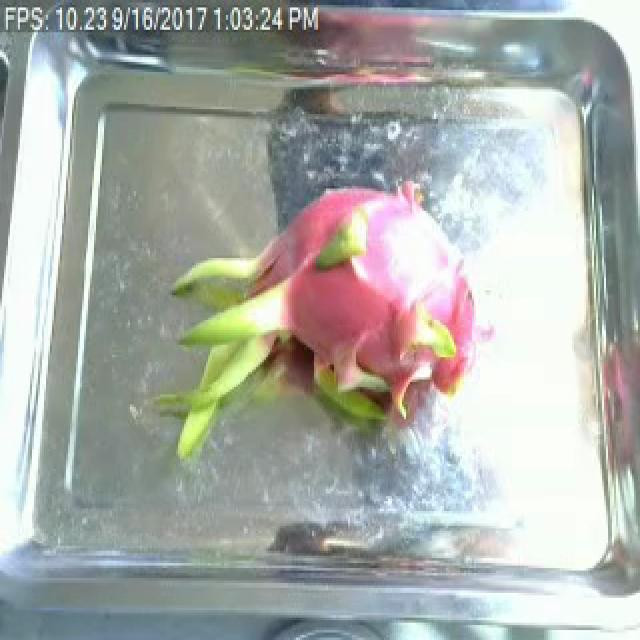fruit: (146, 159, 486, 491)
